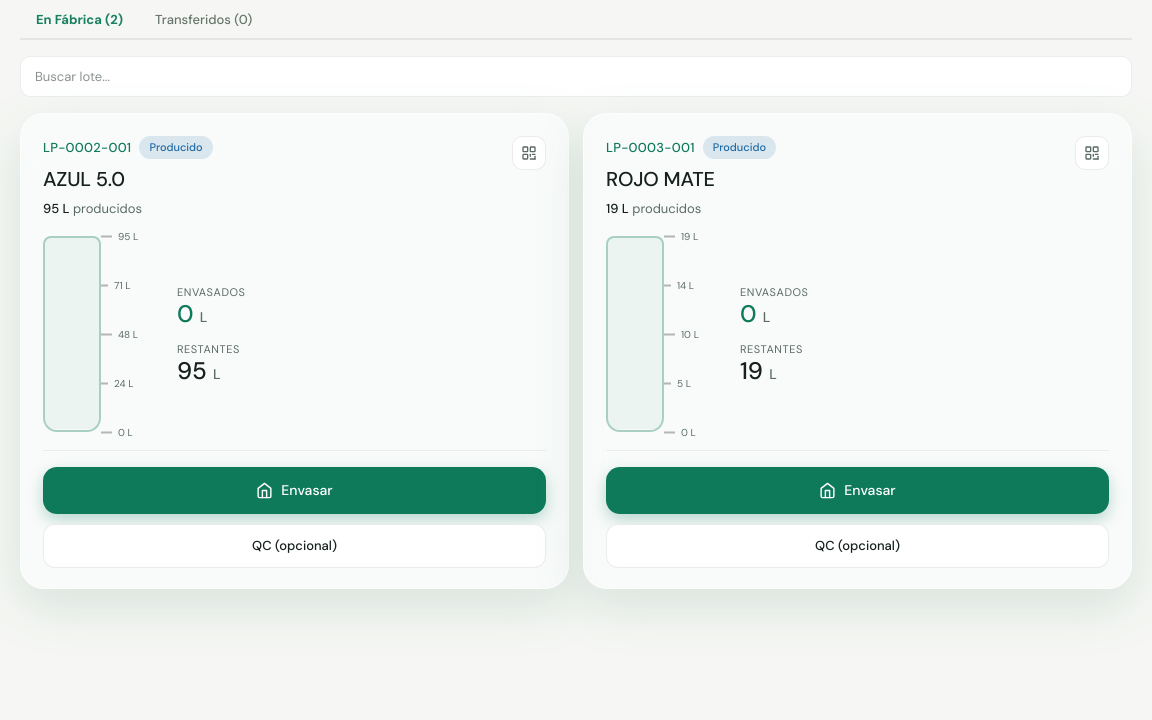
F9 — memoria al envasar, por producto › un producto sin historial abre con el default de siempre y sin aviso
This screenshot has width=1152, height=720.
Expected: the text "LP-0003-001" is shown, [606,138,695,157]
Click the button "Envasar" below "10" at [858, 490], box [606,467,1109,514]
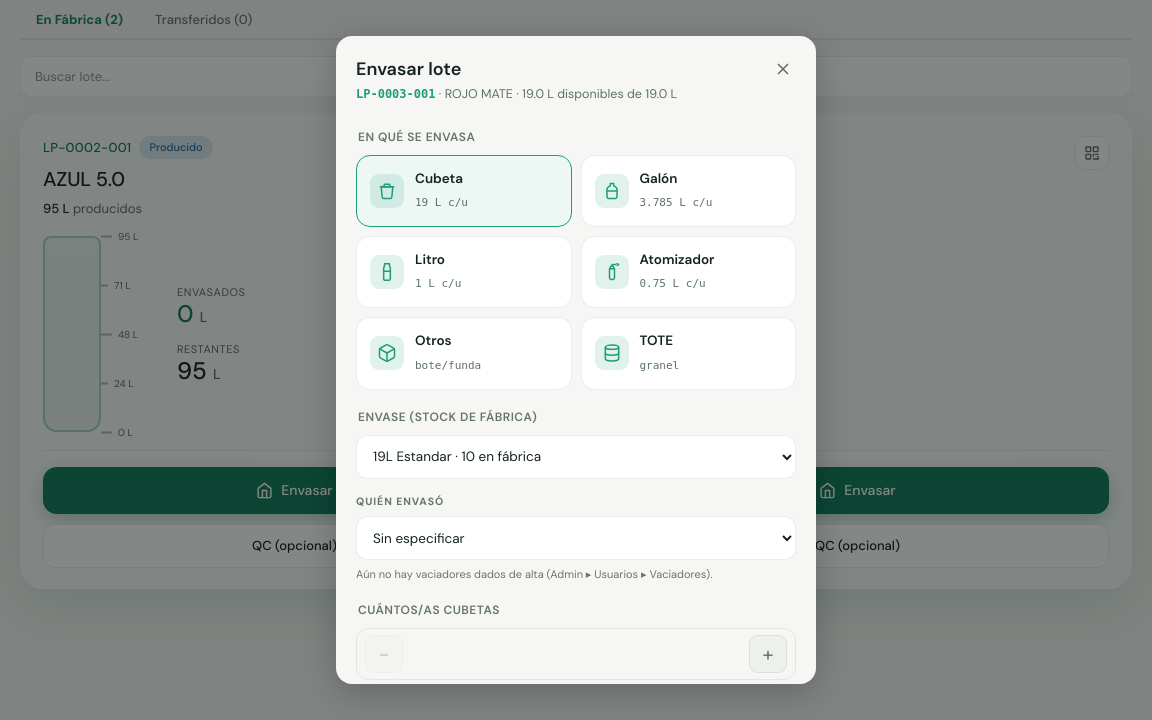
Expected: the text "Envasar lote" is shown, [356,57,461,81]
Expected: the 1st dropdown shows "19L Estandar · 10 en fábrica", [356,434,796,478]
